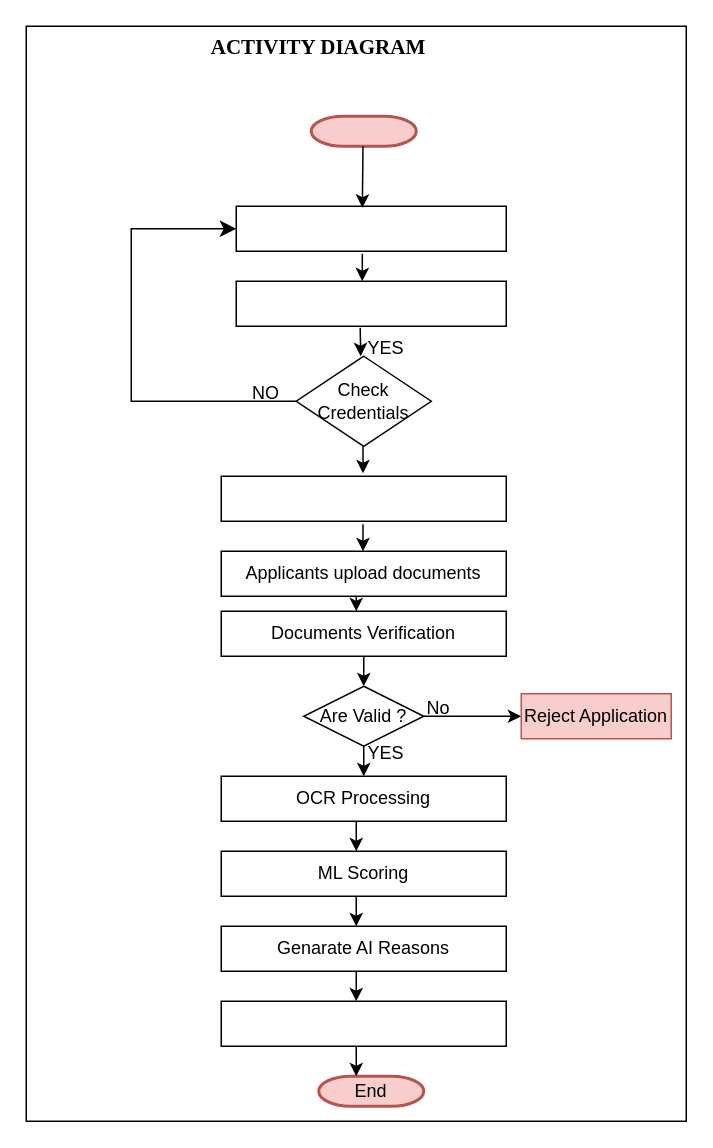
Image size: 713x1148. Some labels were removed from this diagram. Here are the shapes that lost their labels. From the top down, the centre of each, then its label:
At point 363,130: "Start".
At point 370,228: "Register".
At point 370,303: "Login".
At point 363,498: "HR Creates jobs".
At point 363,1023: "Ranking Candidates".
